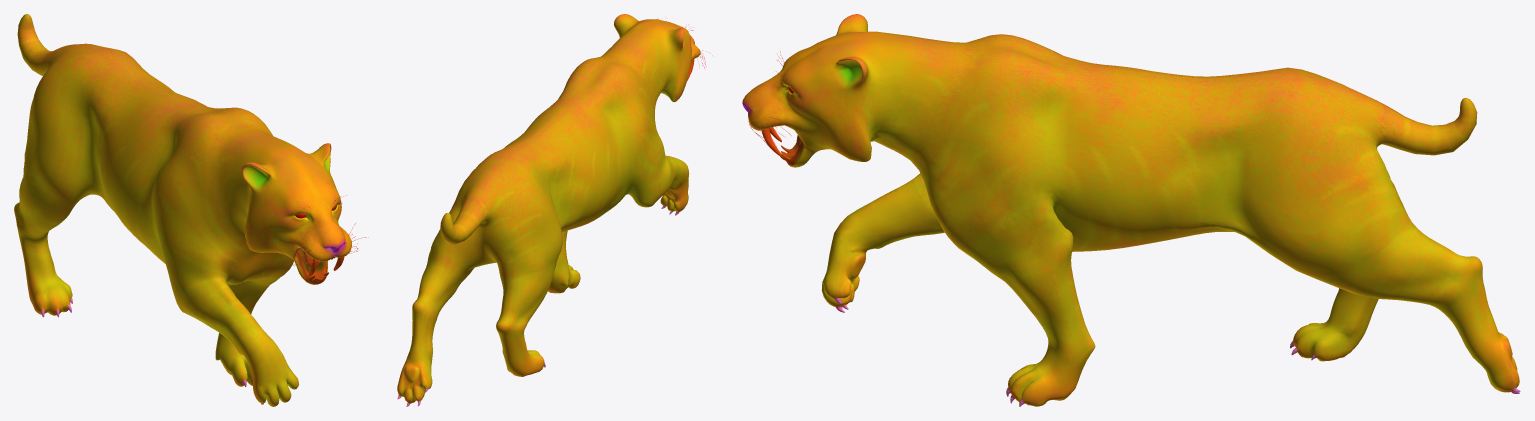
File: SaberToothedCat.glb
3 renders of one model, left to right at view 1: azimuth 30°, elevation 25°; view 2: azimuth 150°, elevation 25°; view 3: azimuth 270°, elevation 25°, orthographic. The views are drawn at different scales.
Visible parts, largest first — view 1: saber_toothed_tiger.1; view 2: saber_toothed_tiger.1; view 3: saber_toothed_tiger.1.
Part boxes in pixels (x1=…): saber_toothed_tiger.1: x1=14, y1=14, x2=368, y2=406; saber_toothed_tiger.1: x1=397, y1=14, x2=713, y2=406; saber_toothed_tiger.1: x1=742, y1=14, x2=1520, y2=406.
Bounding box in the file's own units: 0.3667 × 0.7975 × 1.65.
1 material, 1 textured.
